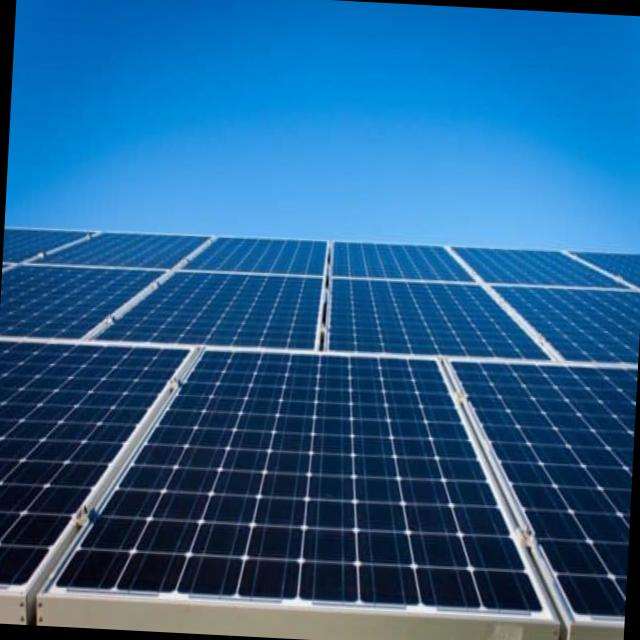no faulty: (0, 226, 640, 617)
